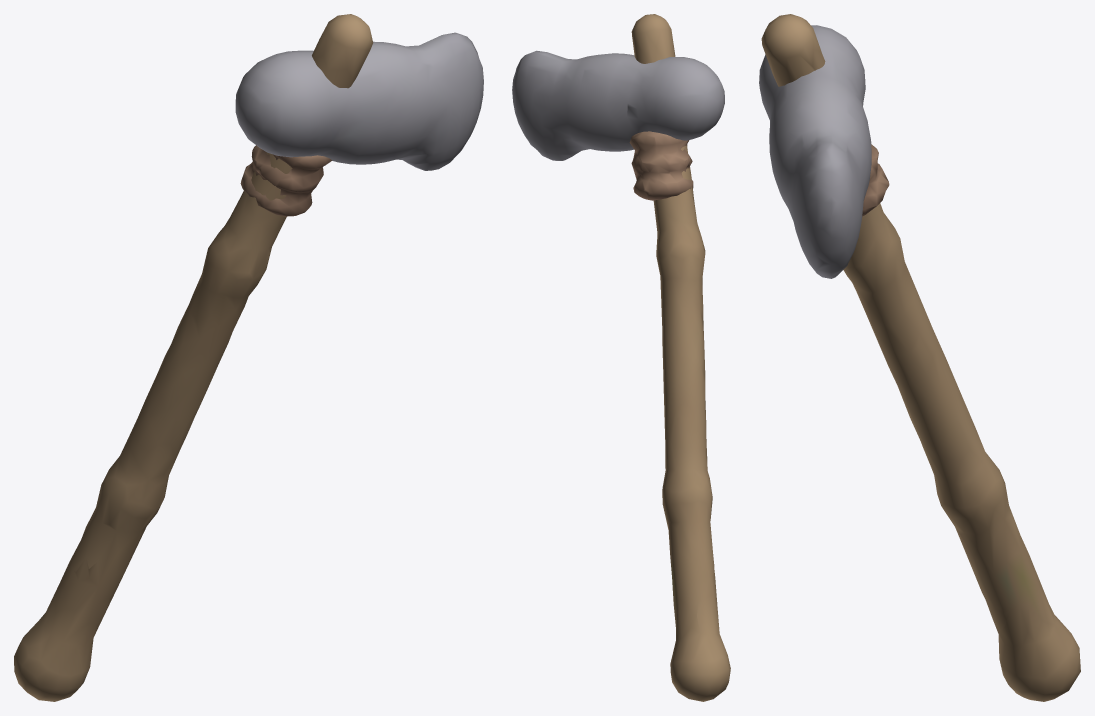
Rendered from FP_StoneAxe.fbx.
3 views of the same model, side by side, from view 1: azimuth 30°, elevation 25°; view 2: azimuth 150°, elevation 25°; view 3: azimuth 270°, elevation 25° (orthographic). The views are drawn at different scales.
Visible parts, largest first — view 1: FP_StoneAxe; view 2: FP_StoneAxe; view 3: FP_StoneAxe.
Boxes of the visible parts, left/top/right/bottom form: FP_StoneAxe: left=14, top=14, right=483, bottom=701; FP_StoneAxe: left=512, top=14, right=730, bottom=701; FP_StoneAxe: left=759, top=14, right=1080, bottom=701.
Size of the model in its own units: 0.3052 by 0.5803 by 0.2183.
